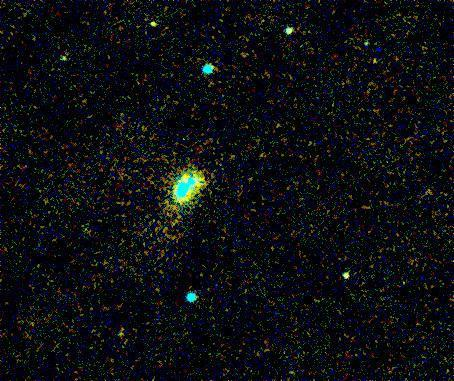star: (135, 6, 165, 36)
